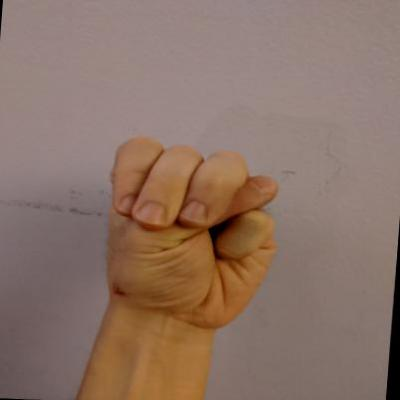hand: (92, 128, 290, 341)
